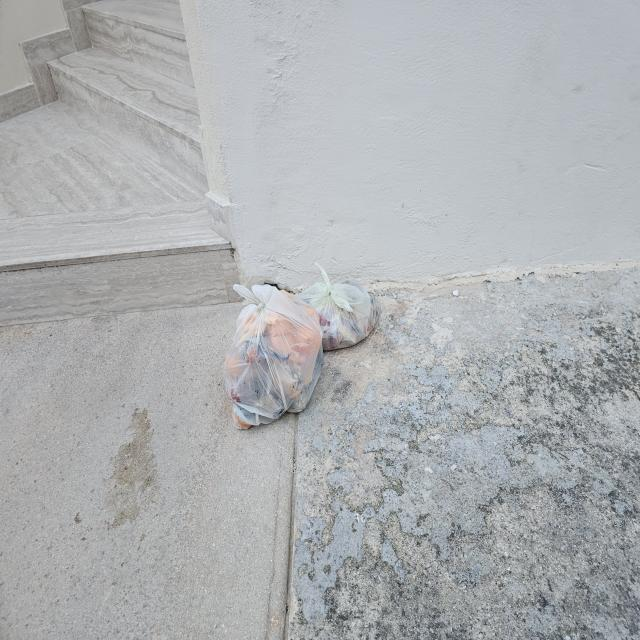white_bag: (220, 281, 326, 435), (288, 259, 383, 352)
